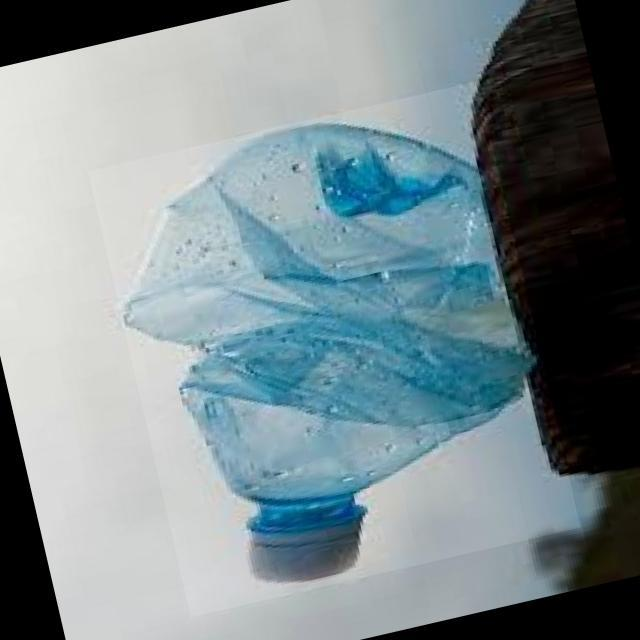defected: (86, 86, 578, 622)
